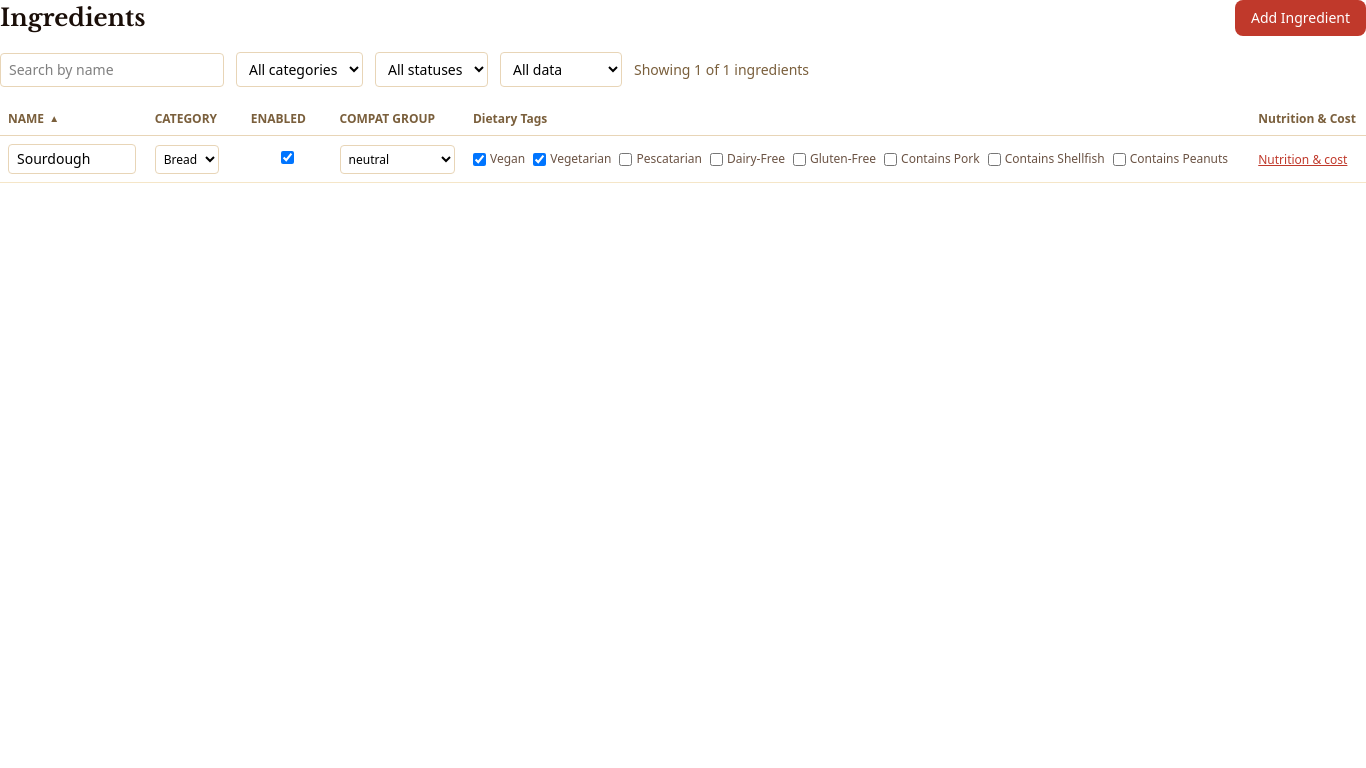
Test: IngredientsPage › nutrition and cost › shows the current values in the dialog
The width and height of the screenshot is (1366, 768).
Check: the field showing "Sourdough" is shown, box 8,144 -> 136,174
Click the button "Nutrition & cost" at (1303,160), box 1258,152 -> 1348,168
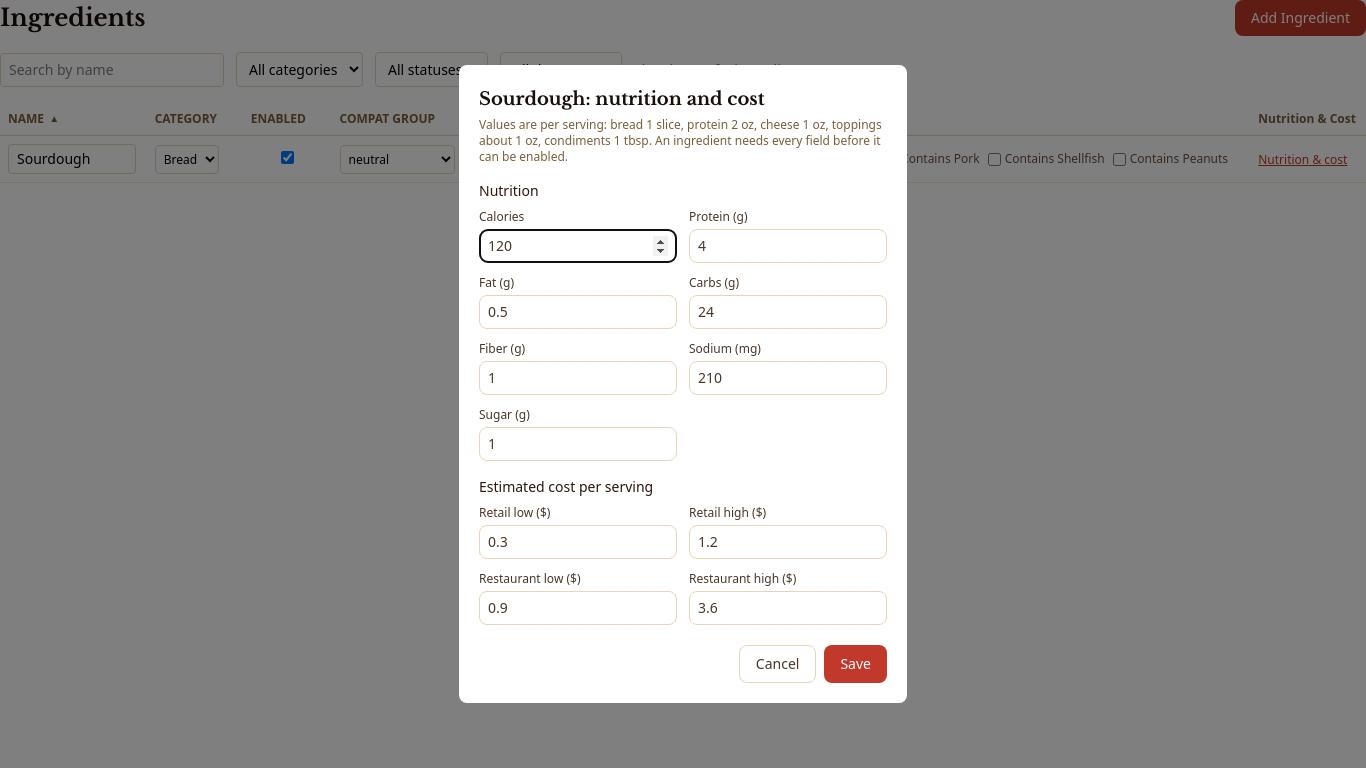
Check: the number field labelled "Calories" holds "120", box 479,229 -> 677,263
Check: the number field labelled "Protein (g)" holds "4", box 689,229 -> 887,263
Check: the number field labelled "Fat (g)" holds "0.5", box 479,295 -> 677,329
